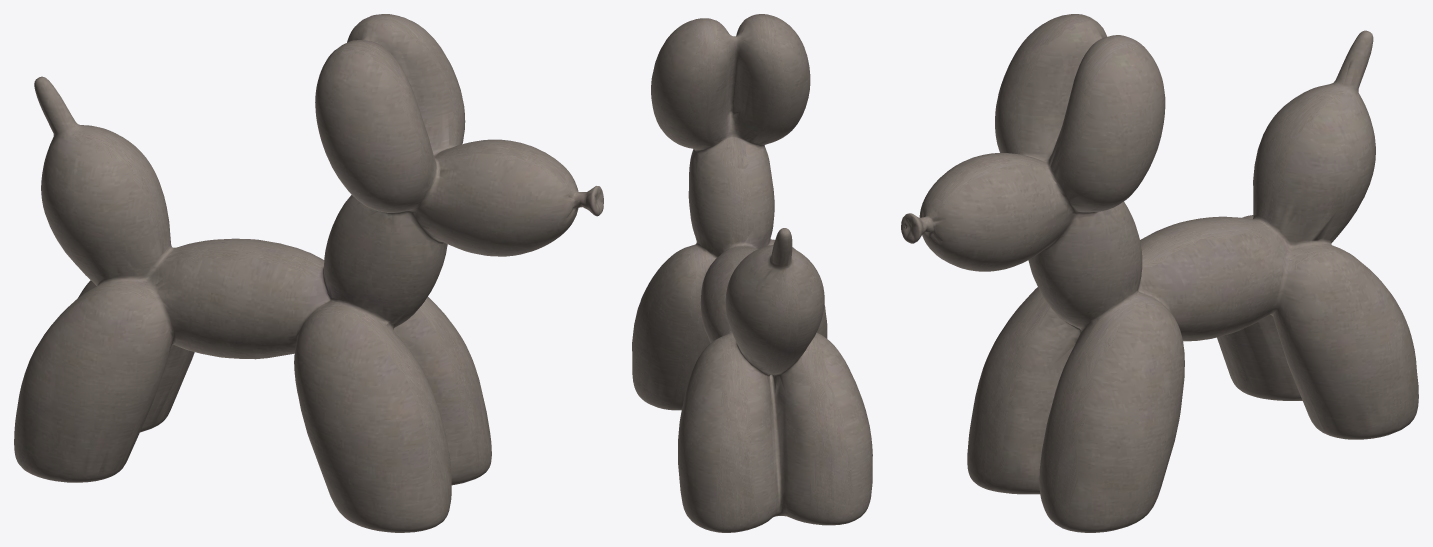
File: PELUCHE-5.glb
3 views of the same model, side by side, from view 1: azimuth 30°, elevation 25°; view 2: azimuth 150°, elevation 25°; view 3: azimuth 270°, elevation 25° (orthographic). The views are drawn at different scales.
Parts seen in each view (by area): view 1: SketchUp; view 2: SketchUp; view 3: SketchUp.
Part boxes in pixels (x1,y1,x2,y2): SketchUp: (14,14,603,532); SketchUp: (632,14,872,532); SketchUp: (901,14,1418,532).
Size of the model in its own units: 0.502 by 0.5523 by 0.5689.
1 material, 1 textured.
